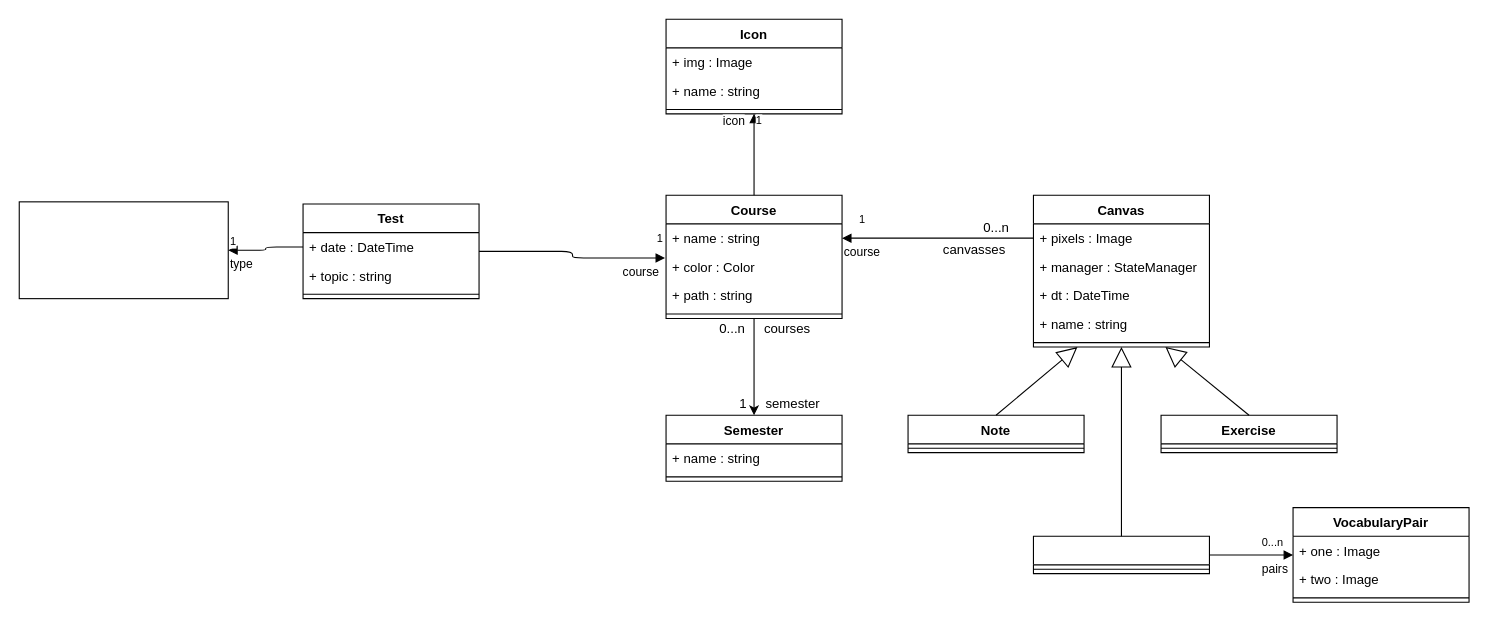
This 1488x622 diagram has some shape labels left out. The shapes that lost their labels are listed below. From the top down, each one's centre as x and y in pixels, then its label:
At (123,250): "<<Enumeration>> TestType Exam VocabularyTest".
At (1120,554): "VocabularyListing".
